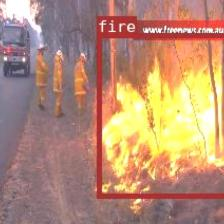fire: (96, 33, 224, 196)
